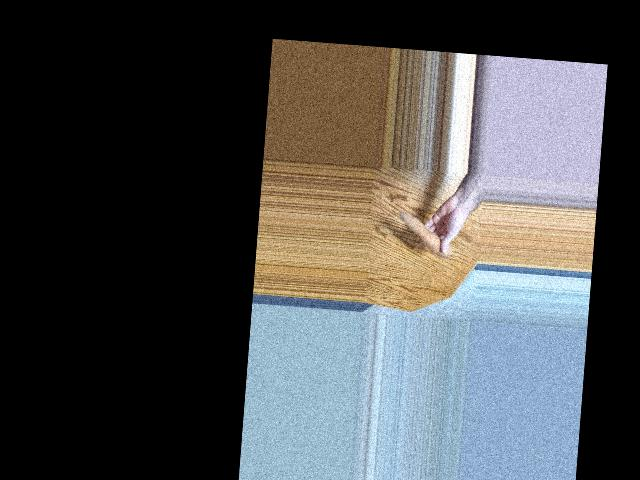sweet_potato: (396, 209, 454, 255)
